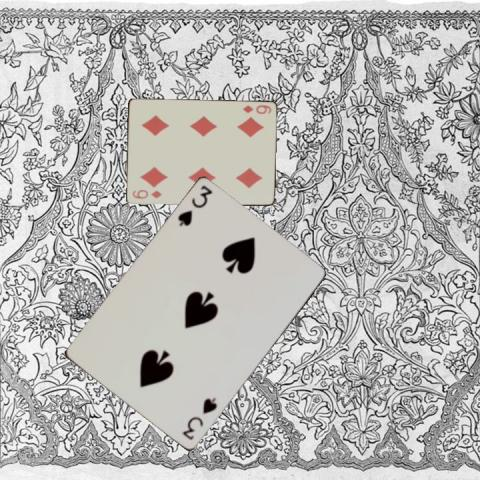3s: (179, 395, 219, 442), (175, 182, 214, 229)
6d: (129, 187, 163, 200), (240, 102, 273, 115)
